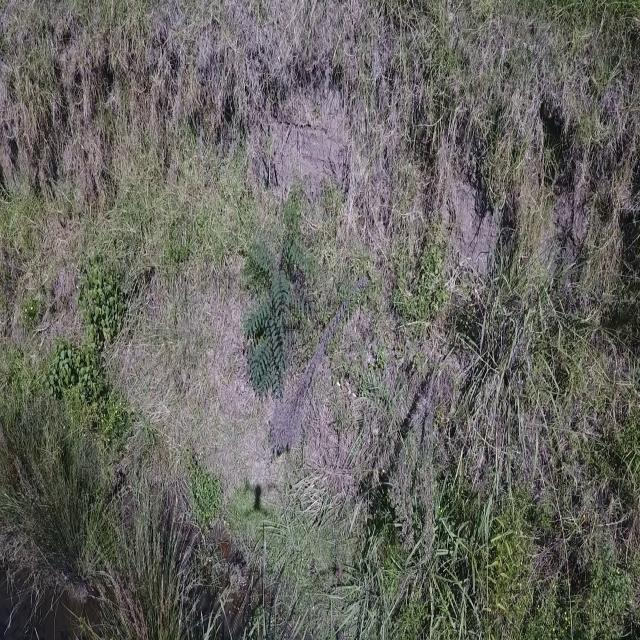Mysore-Thorn-Weed: (245, 239, 312, 404)
